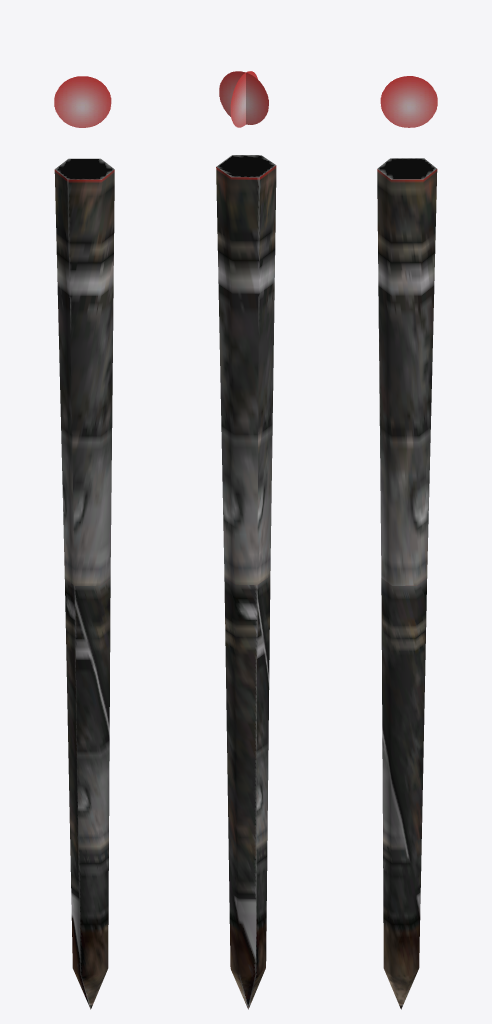
The model's file is ply_all_construction_beacon_l2.fbx.
The picture shows the model from 3 angles, left to right: view 1: azimuth 90°, elevation 25°; view 2: azimuth 150°, elevation 25°; view 3: azimuth 270°, elevation 25°; orthographic projection.
Visible parts, largest first — view 1: mesh_node; view 2: mesh_node; view 3: mesh_node.
Boxes of the visible parts, box(x1,y1,x2,y2) form: mesh_node: box(54, 76, 114, 1009); mesh_node: box(216, 71, 276, 1009); mesh_node: box(377, 76, 437, 1009).
Bounding box in the file's own units: 0.4664 × 3.51 × 0.4664.
